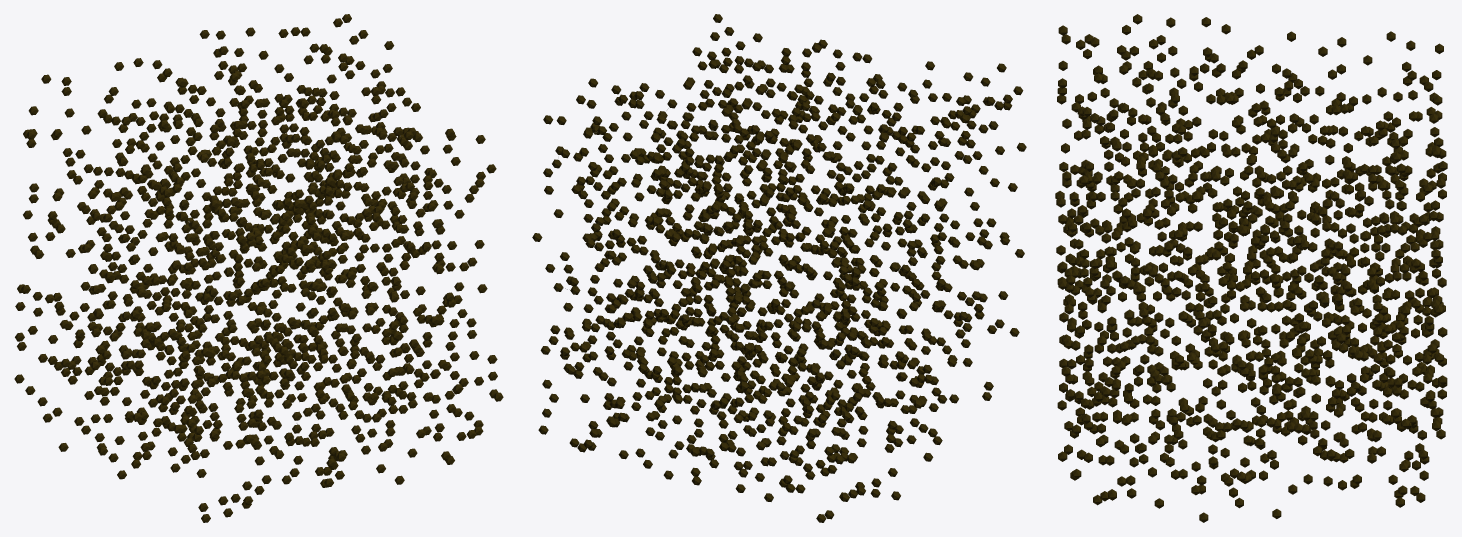
The model's file is dang_cu_dislocation.glb.
3 views of the same model, side by side, from view 1: azimuth 30°, elevation 25°; view 2: azimuth 150°, elevation 25°; view 3: azimuth 270°, elevation 25° (orthographic). The views are drawn at different scales.
Bounding box in the file's own units: 51.16 × 51.04 × 51.12.
